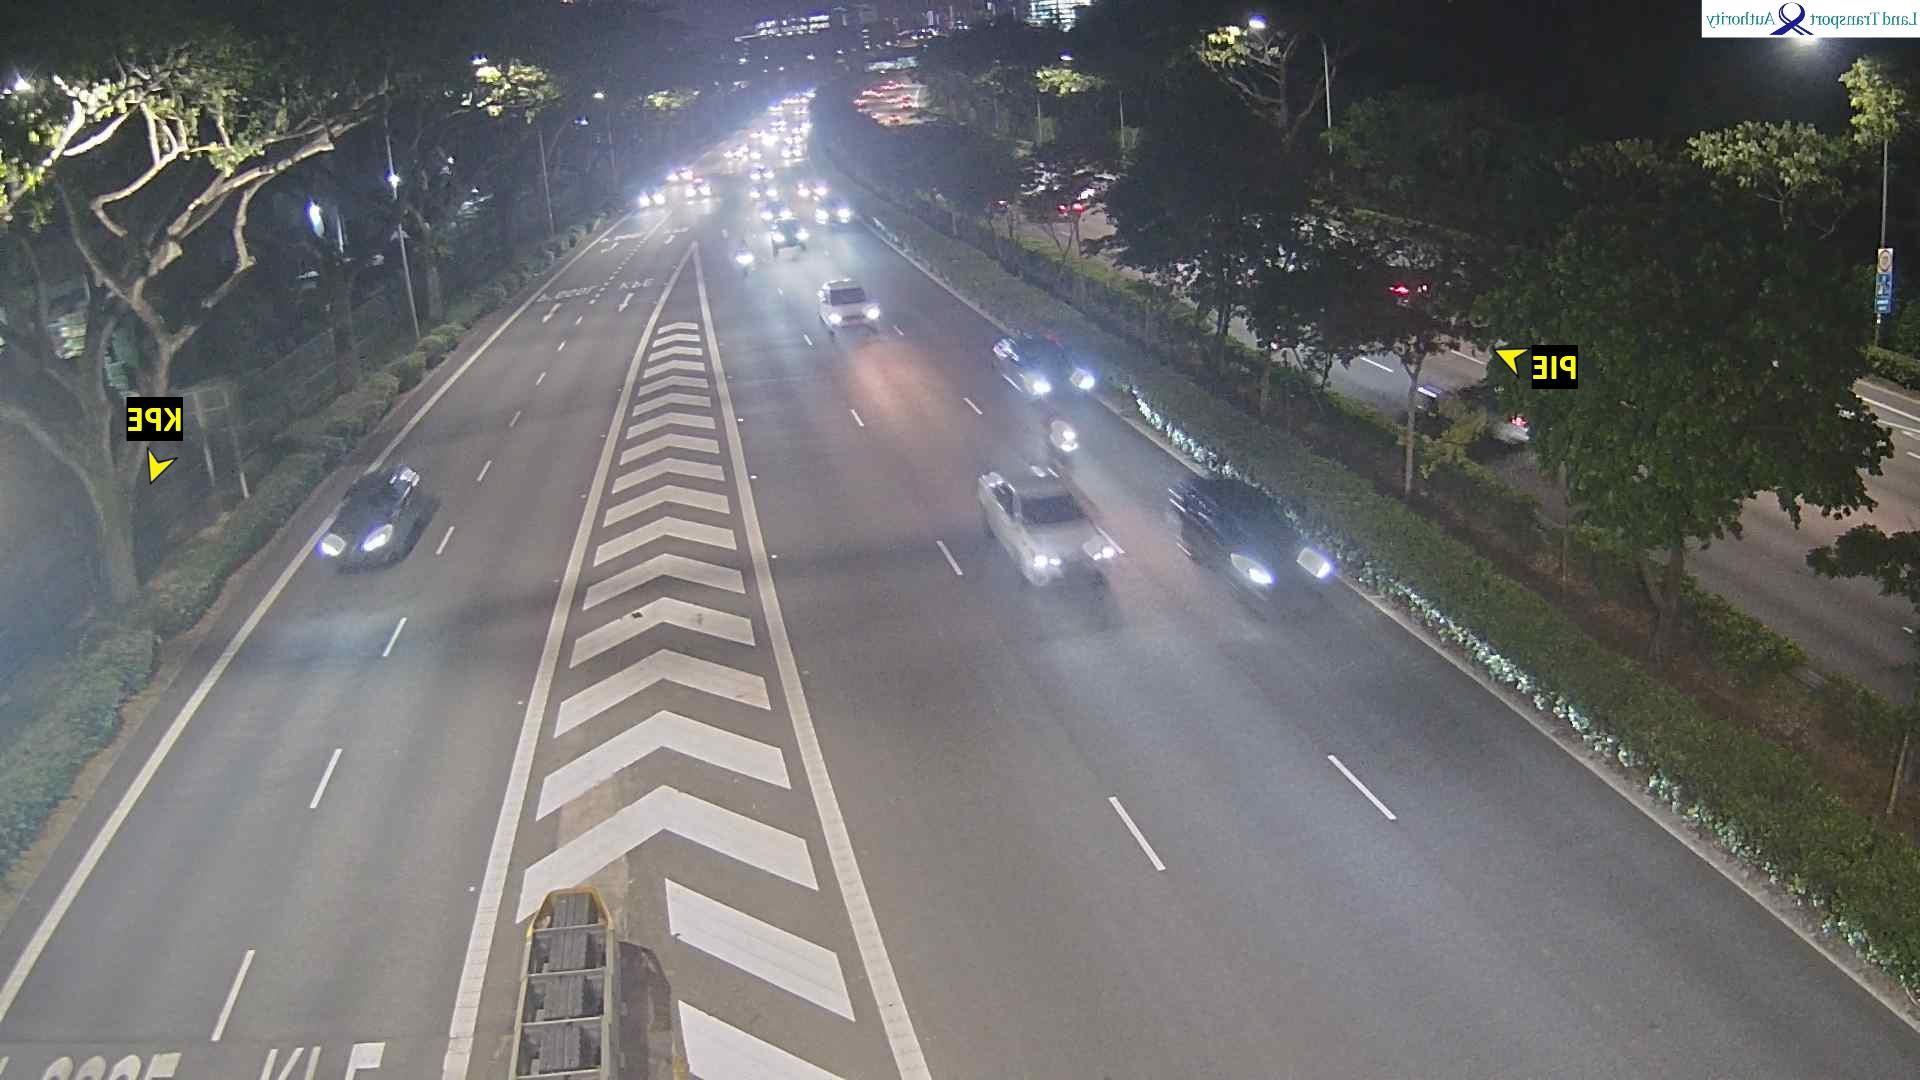cars: (1166, 472, 1337, 612), (976, 460, 1124, 588), (319, 462, 423, 568), (992, 328, 1098, 402), (818, 276, 884, 335), (769, 222, 811, 255), (814, 193, 855, 225), (757, 200, 793, 222), (638, 185, 669, 208), (798, 179, 827, 200), (686, 179, 712, 202), (665, 164, 694, 183), (746, 182, 777, 200), (720, 146, 746, 162), (748, 167, 775, 182), (782, 144, 802, 161)
motorcycle: (1048, 415, 1081, 456), (732, 240, 757, 277)
